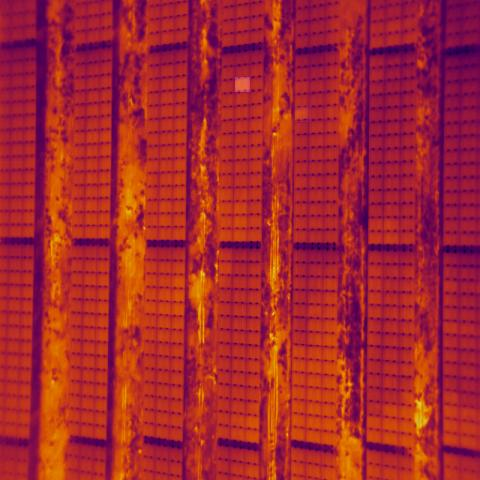fault: (295, 106, 311, 122), (235, 77, 250, 92)
